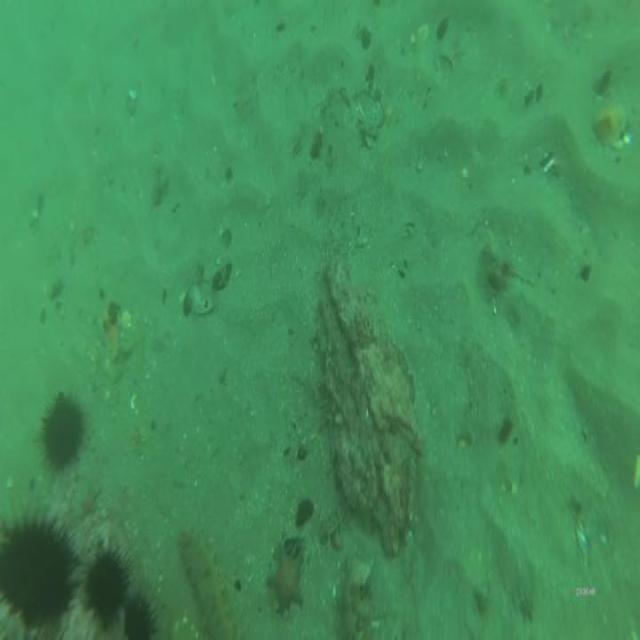echinus: (1, 499, 83, 640), (85, 539, 129, 635), (41, 389, 83, 474), (122, 585, 164, 635)
starfish: (266, 537, 308, 618)
